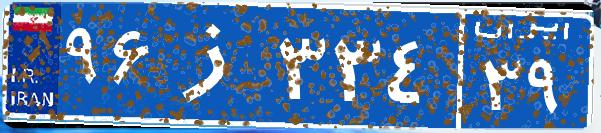3: (273, 28, 330, 110), (330, 28, 385, 110), (475, 38, 525, 113)
4: (385, 28, 445, 110)
6: (110, 28, 158, 105)
9: (57, 26, 110, 107), (525, 38, 570, 115)
ز: (158, 15, 273, 115)
